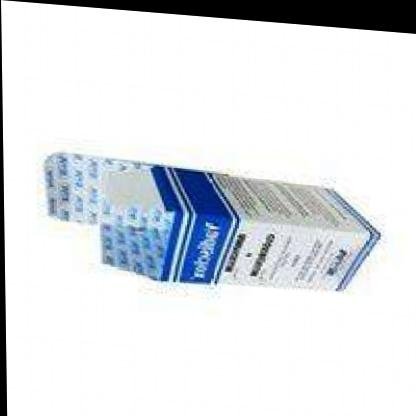trash: (44, 153, 379, 290)
